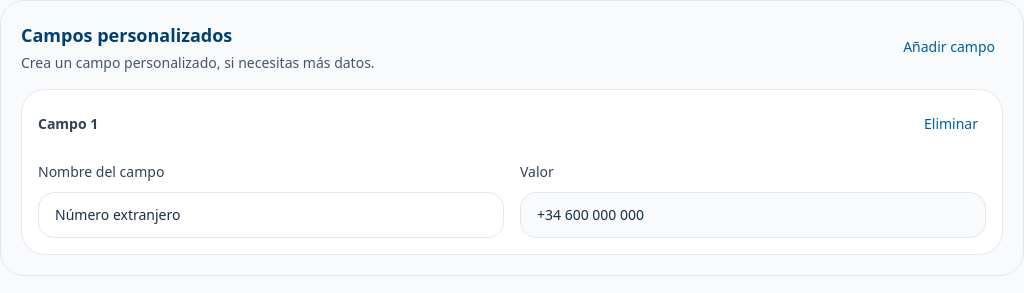
CustomFieldsSection › removes a custom field row
This screenshot has width=1024, height=293.
Expected: the heading "Campo 1" is shown, [38, 114, 98, 134]
Click the button with aria-label "Eliminar campo personalizado 1": (951, 124) [916, 106, 986, 142]
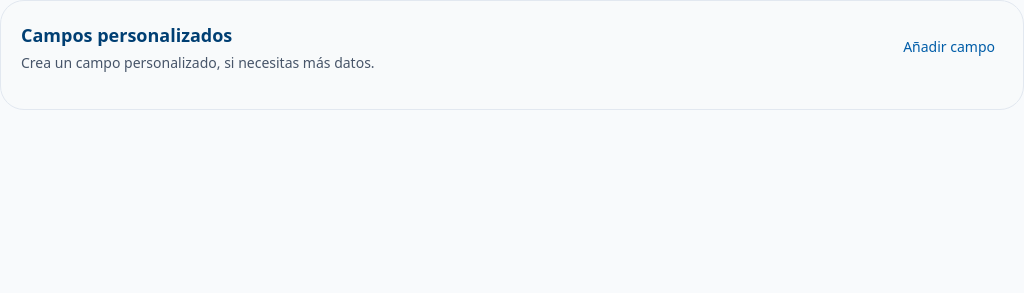
Result: the heading "Campo 1" is gone
